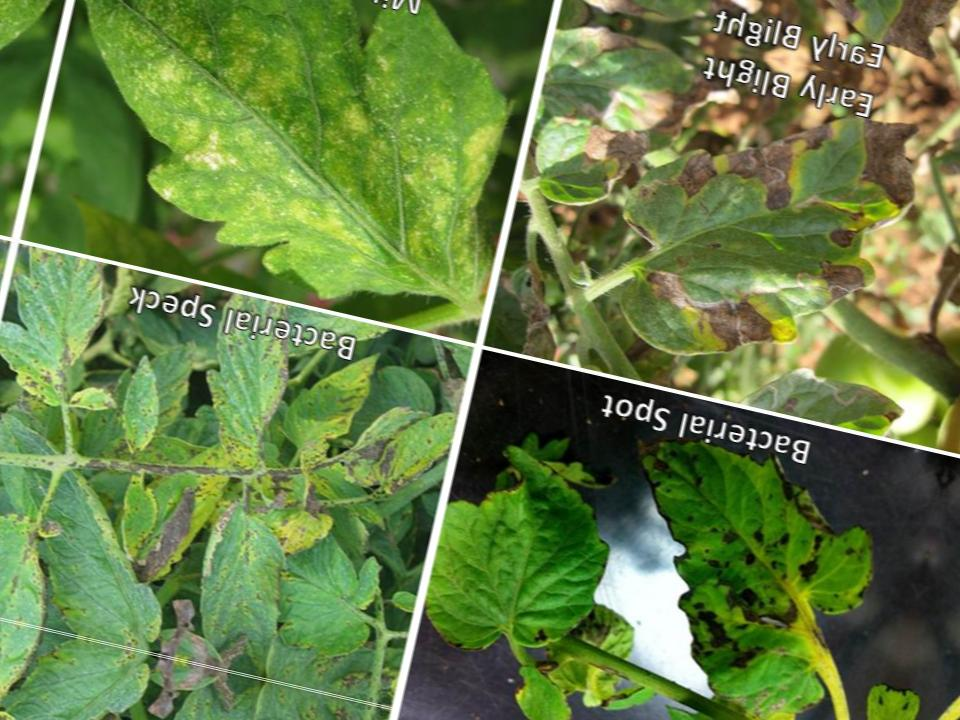Tomato Early blight leaf: (577, 68, 960, 412), (581, 406, 918, 720), (413, 394, 647, 691), (0, 248, 148, 440), (178, 481, 327, 667), (240, 520, 410, 682), (191, 296, 313, 491), (268, 319, 387, 500), (334, 374, 451, 506), (103, 461, 178, 577)
